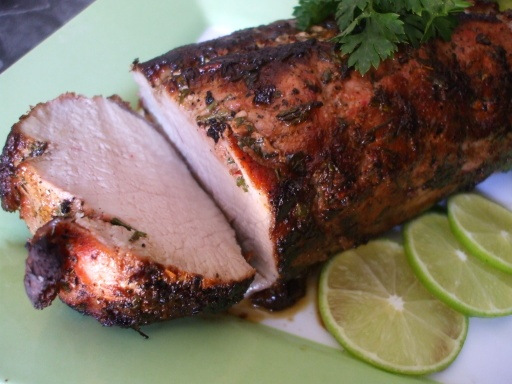background: (1, 0, 409, 226)
